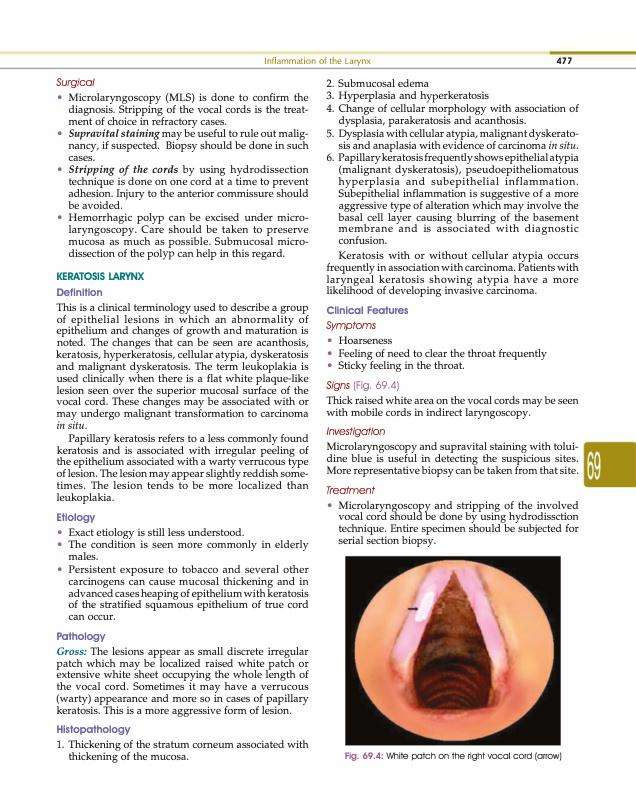caption: (343, 750, 563, 762)
header: (263, 55, 372, 66)
image: (344, 554, 562, 747)
list: (324, 77, 580, 246), (56, 91, 309, 262), (57, 526, 310, 622), (326, 499, 581, 548), (326, 334, 548, 373), (56, 739, 312, 764)
section-heading: (56, 270, 145, 282)
sub-section-heading: (325, 304, 409, 316), (324, 380, 402, 392), (56, 724, 131, 736), (326, 425, 386, 438), (325, 320, 377, 332), (56, 631, 107, 643), (56, 286, 104, 298), (325, 485, 376, 496), (55, 77, 97, 89), (56, 512, 97, 524), (56, 646, 88, 656)
text: (55, 301, 310, 506), (55, 646, 310, 718), (324, 249, 579, 298), (325, 440, 579, 478), (324, 394, 580, 421)
